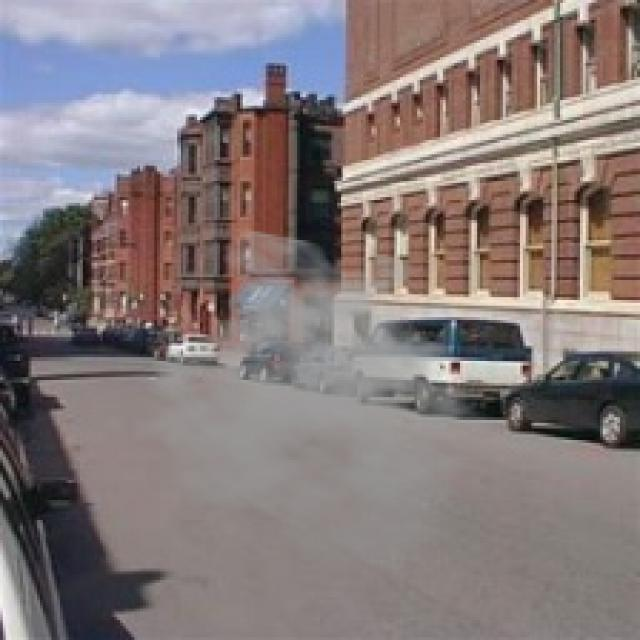smoke: (129, 226, 514, 580)
